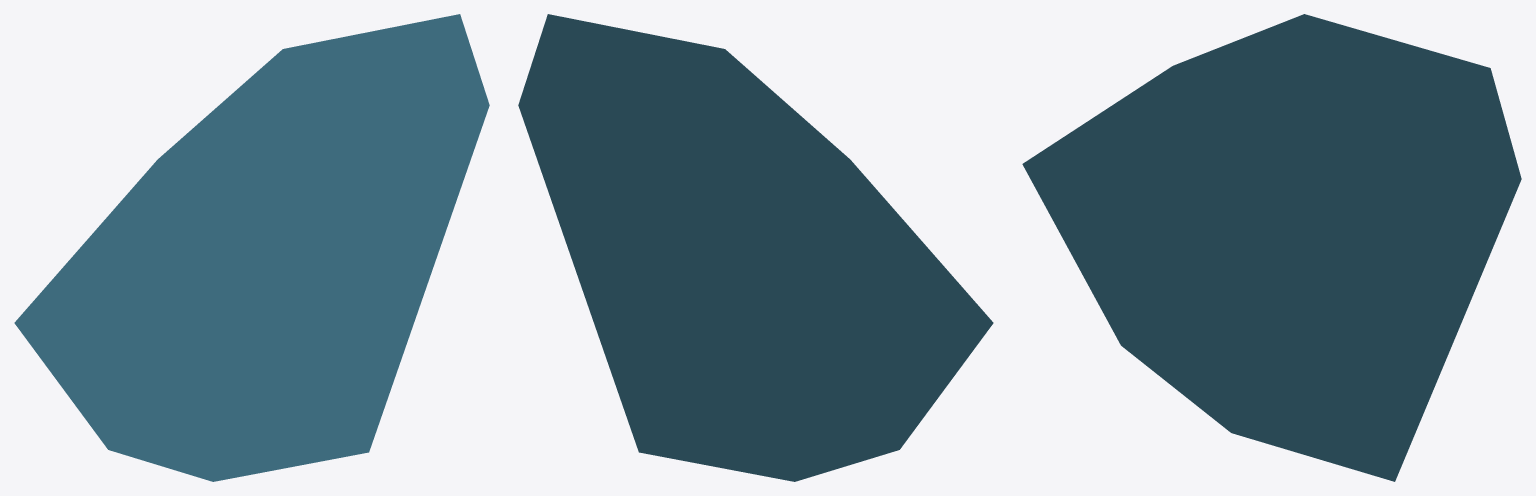
File: NexusA_Cloth_16.fbx
3 renders of one model, left to right at view 1: azimuth 30°, elevation 25°; view 2: azimuth 150°, elevation 25°; view 3: azimuth 330°, elevation 25°, orthographic. The views are drawn at different scales.
Visible parts, largest first — view 1: pasted__polySurface47; view 2: pasted__polySurface47; view 3: pasted__polySurface47.
Part boxes in pixels (<box>): pasted__polySurface47: <box>14,14,489,481</box>; pasted__polySurface47: <box>518,14,993,481</box>; pasted__polySurface47: <box>1022,14,1521,481</box>.
Size of the model in its own units: 56.4 by 48.11 by 8.25e-06.
